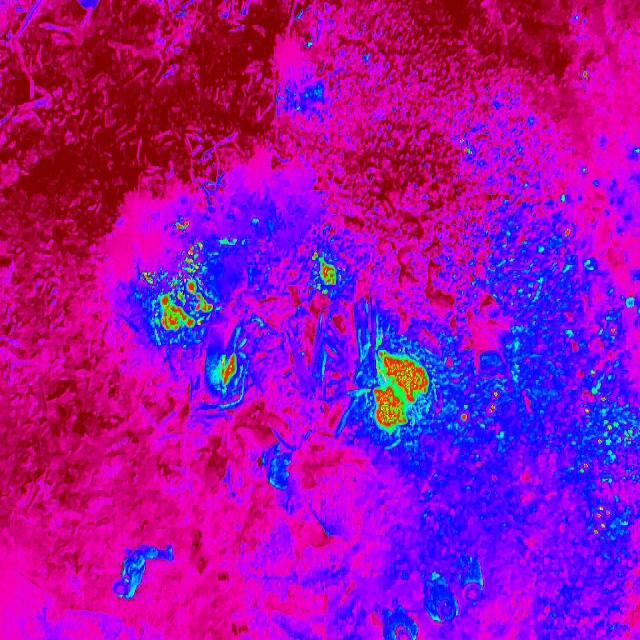fire: (548, 222, 640, 542), (142, 243, 214, 335), (368, 344, 432, 440), (460, 386, 502, 426), (310, 251, 340, 299), (213, 346, 240, 396), (170, 216, 193, 236)
